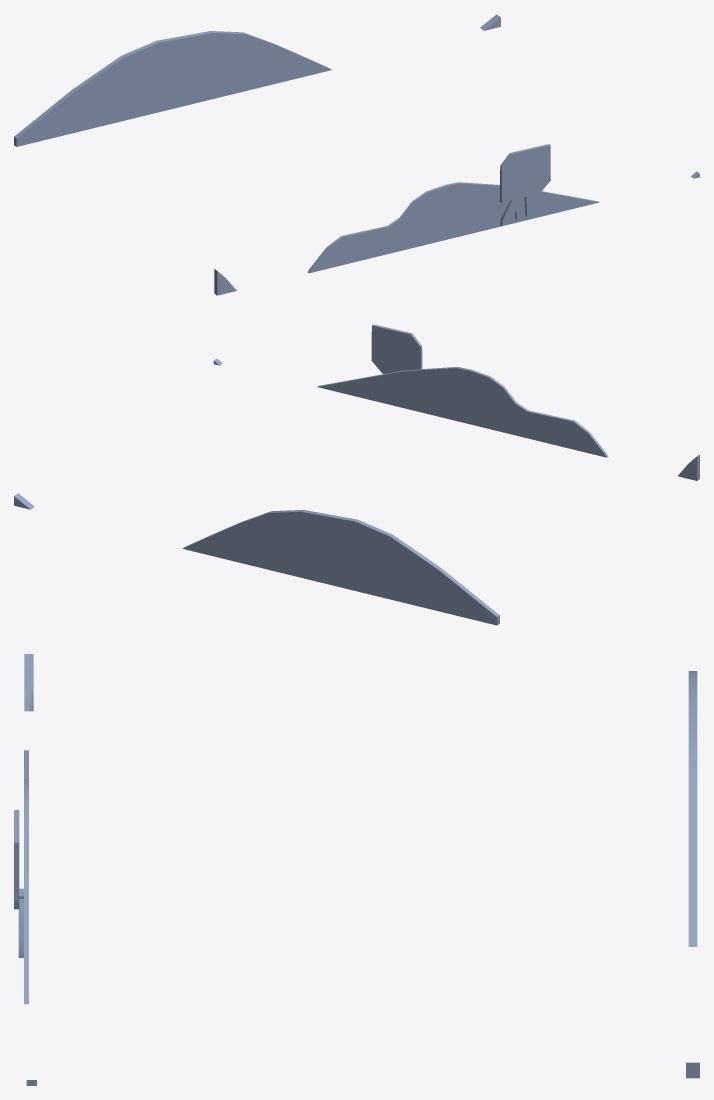
File: frame_0081.glb
3 views of the same model, one above another, from view 1: azimuth 30°, elevation 25°; view 2: azimuth 150°, elevation 25°; view 3: azimuth 270°, elevation 25° (orthographic). The views are drawn at different scales.
Visible parts, largest first — view 1: export_trees_001.002; view 2: export_trees_001.002; view 3: export_trees_001.002.
Boxes of the visible parts, x1=… form: export_trees_001.002: x1=14, y1=14, x2=699, y2=295; export_trees_001.002: x1=14, y1=324, x2=699, y2=625; export_trees_001.002: x1=14, y1=654, x2=699, y2=1085.
Bounding box in the file's own units: 0.4327 × 0.0622 × 0.321.
